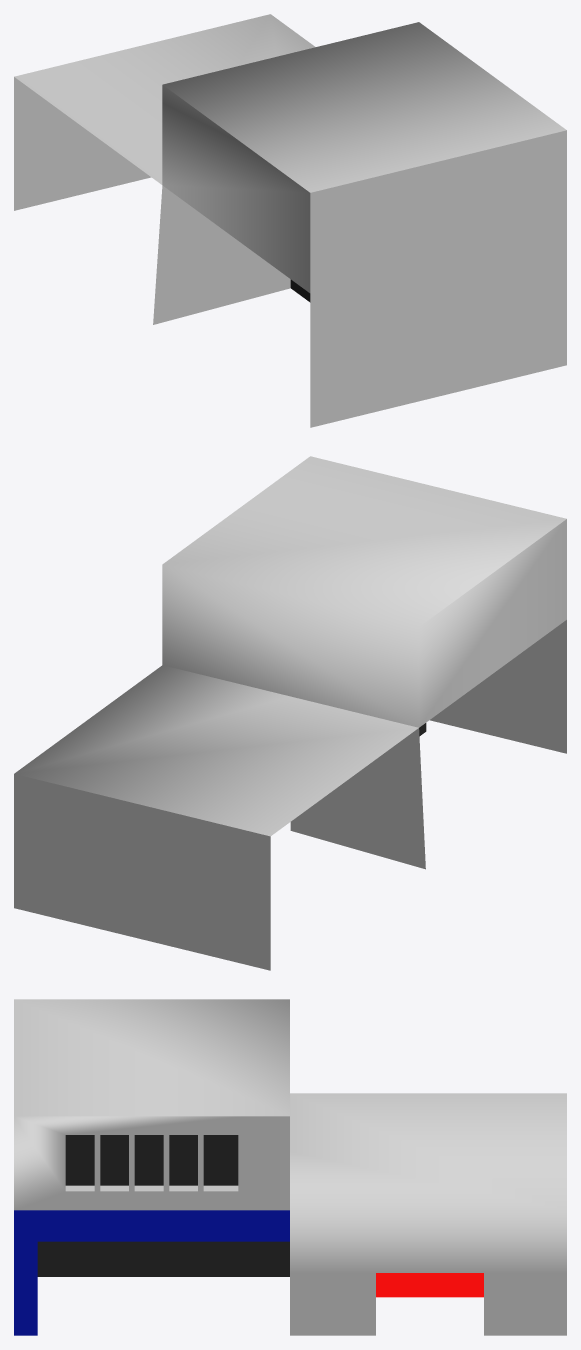
Rendered from Edificio-3.fbx.
3 renders of one model, top to bottom at view 1: azimuth 30°, elevation 25°; view 2: azimuth 150°, elevation 25°; view 3: azimuth 270°, elevation 25°, orthographic. The views are drawn at different scales.
Visible parts, largest first — view 1: Plane; view 2: Plane; view 3: Plane.
Boxes of the visible parts, x1,y1,x2,y2 form: Plane: (14,14,566,427); Plane: (14,456,566,970); Plane: (14,999,566,1335).
Bounding box in the file's own units: 443 × 357 × 800.
